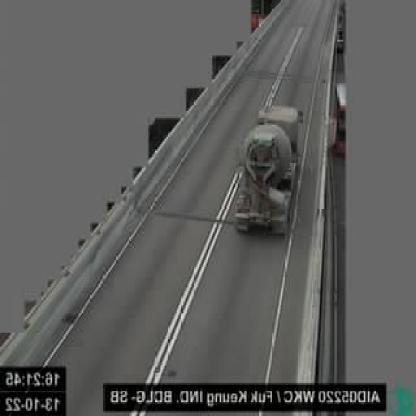Truck: (235, 100, 301, 239)
